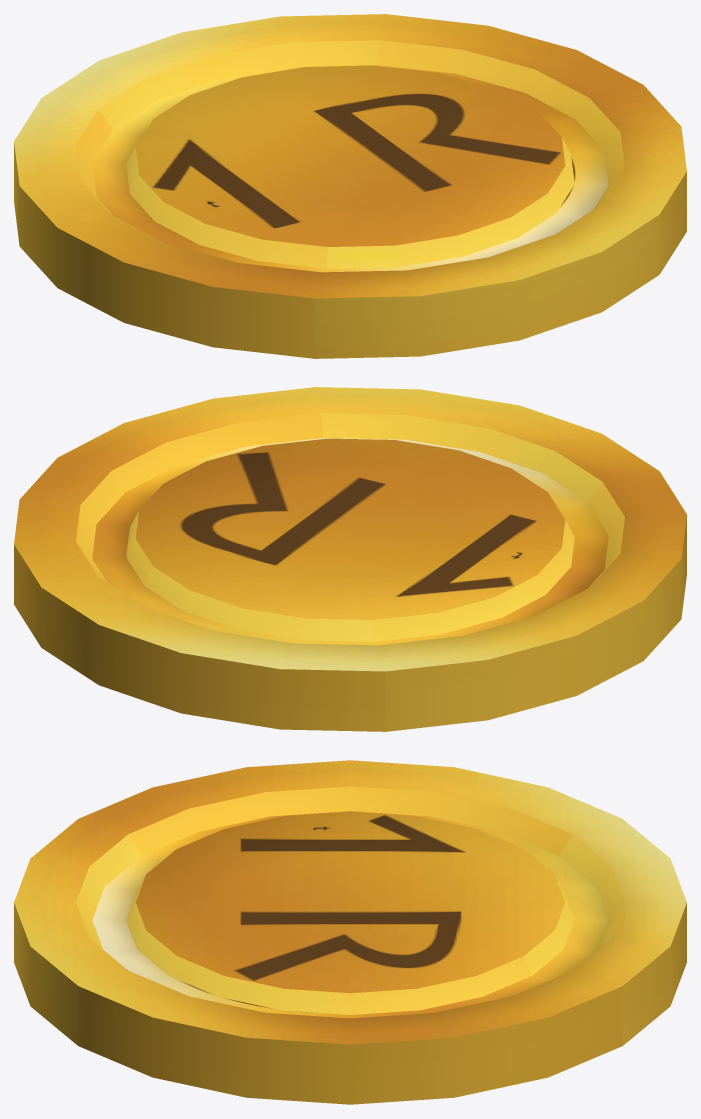
Rendered from coins R1.fbx.
3 renders of one model, top to bottom at view 1: azimuth 30°, elevation 25°; view 2: azimuth 150°, elevation 25°; view 3: azimuth 270°, elevation 25°, orthographic.
Parts seen in each view (by area): view 1: pCylinder1; view 2: pCylinder1; view 3: pCylinder1.
Part boxes in pixels (box(x1,y1,x2,y2)): pCylinder1: box(14, 14, 686, 358); pCylinder1: box(14, 387, 686, 731); pCylinder1: box(14, 760, 686, 1104).
Size of the model in its own units: 2.99 by 0.2943 by 2.99.
